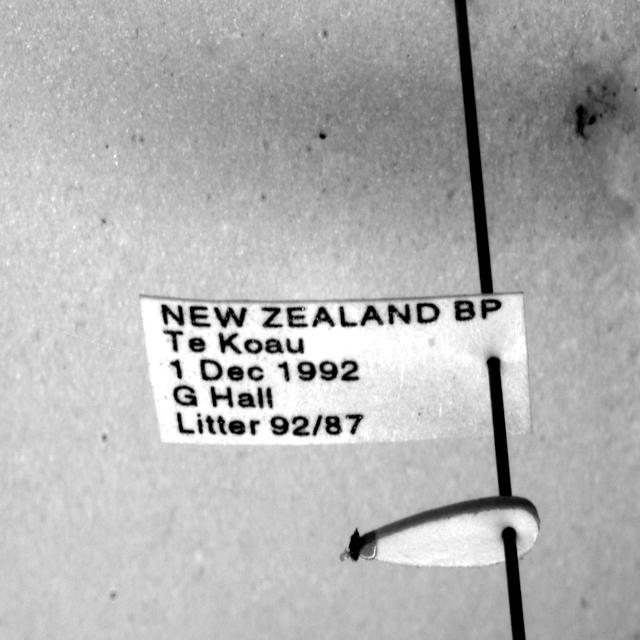typed_label: (140, 292, 531, 444)
